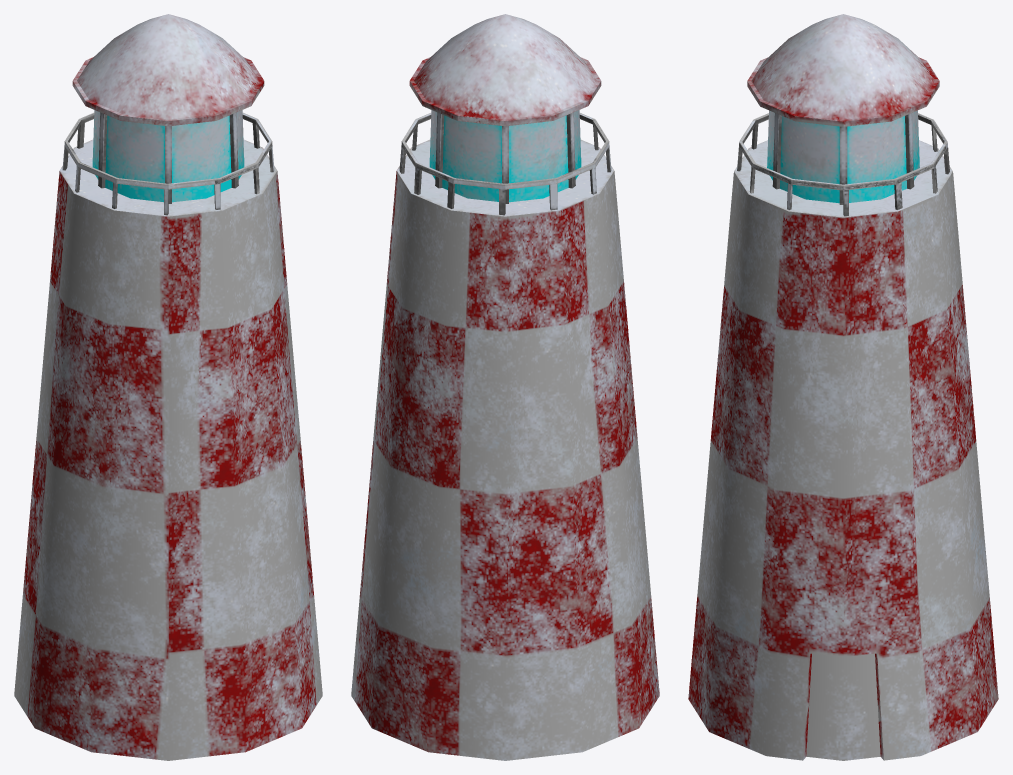
File: Arctic_Lighthouse_SM.fbx
3 views of the same model, side by side, from view 1: azimuth 30°, elevation 25°; view 2: azimuth 150°, elevation 25°; view 3: azimuth 270°, elevation 25° (orthographic).
Visible parts, largest first — view 1: Arctic_Lighthouse_SM; view 2: Arctic_Lighthouse_SM; view 3: Arctic_Lighthouse_SM.
Part boxes in pixels (x1=…): Arctic_Lighthouse_SM: x1=14, y1=14, x2=322, y2=760; Arctic_Lighthouse_SM: x1=351, y1=14, x2=659, y2=760; Arctic_Lighthouse_SM: x1=688, y1=14, x2=998, y2=760.
Size of the model in its own units: 316 by 793 by 325.
